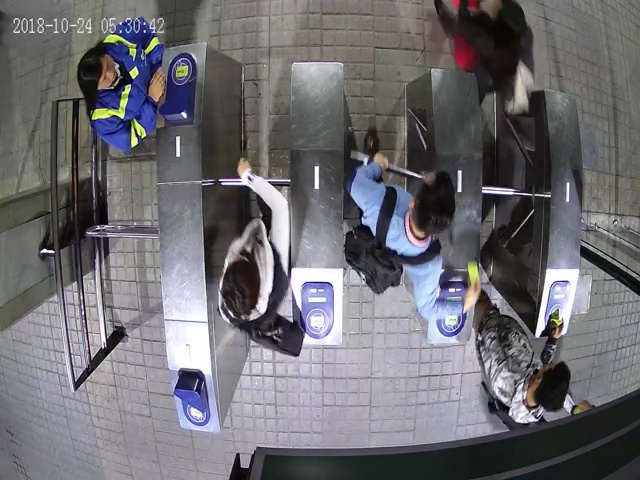Chaleco_azul: (77, 17, 166, 151)
